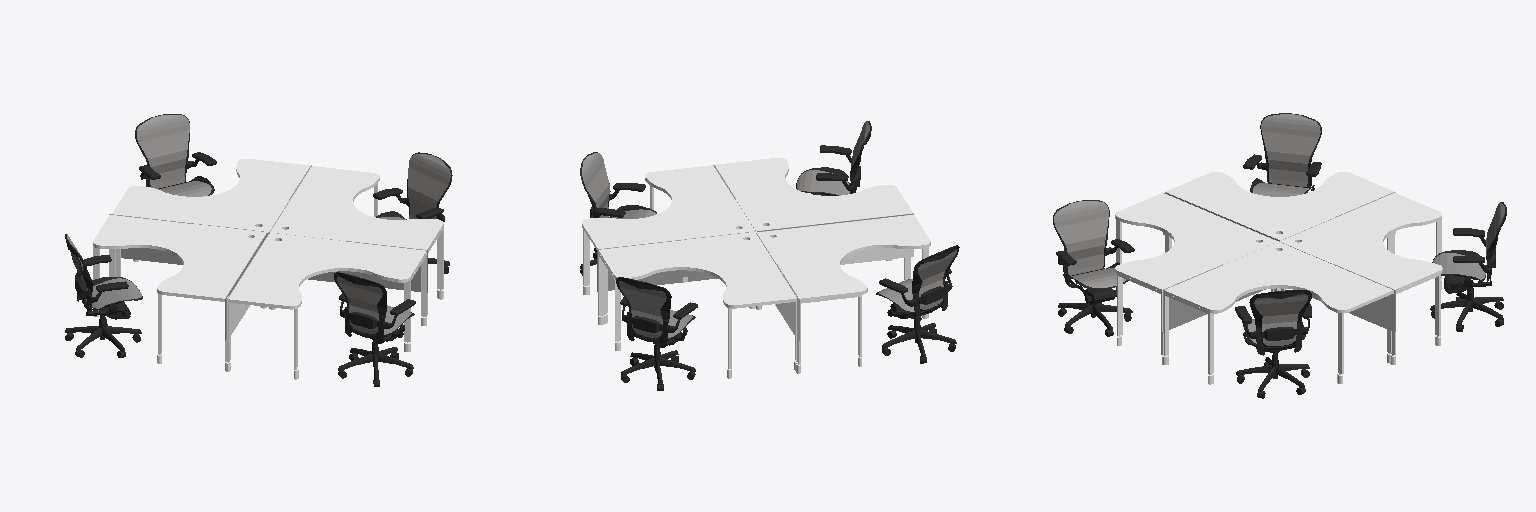
The model's file is WORKSTATIONS.obj.
3 views of the same model, side by side, from view 1: azimuth 30°, elevation 25°; view 2: azimuth 150°, elevation 25°; view 3: azimuth 270°, elevation 25° (orthographic).
Parts seen in each view (by area): view 1: Mesh1 Component_15_1 Component_17_1 Component_18_1 Model, Mesh55 Component_15_4 Component_17_4 Component_18_1 Model, Mesh37 Component_15_3 Component_17_3 Component_18_1 Model, Mesh19 Component_15_2 Component_17_2 Component_18_1 Model, Mesh99 Component_19_2 ske2D1 Model, Mesh84 Component_19_1 ske2D1 Model, Mesh207 Component_19_7 ske2D4 Model, Mesh222 Component_19_8 ske2D4 Model, Mesh166 Component_19_5 ske2D3 Model, Mesh181 Component_19_6 ske2D3 Model, Mesh60 screen_2_12 Screen2_1_8 Herman_miller_6_x8__Vivo_Workstat, Mesh6 screen_2_3 Screen2_1_2 Herman_miller_6_x8__Vivo_Workstatio (+1 smaller); view 2: Mesh19 Component_15_2 Component_17_2 Component_18_1 Model, Mesh55 Component_15_4 Component_17_4 Component_18_1 Model, Mesh37 Component_15_3 Component_17_3 Component_18_1 Model, Mesh1 Component_15_1 Component_17_1 Component_18_1 Model, Mesh84 Component_19_1 ske2D1 Model, Mesh99 Component_19_2 ske2D1 Model, Mesh140 Component_19_4 ske2D2 Model, Mesh125 Component_19_3 ske2D2 Model, Mesh56 screen_2_10 Screen2_1_7 Herman_miller_6_x8__Vivo_Workstat, Mesh207 Component_19_7 ske2D4 Model, Mesh222 Component_19_8 ske2D4 Model, Mesh24 screen_2_6 Screen2_1_4 Herman_miller_6_x8__Vivo_Workstati; view 3: Mesh37 Component_15_3 Component_17_3 Component_18_1 Model, Mesh1 Component_15_1 Component_17_1 Component_18_1 Model, Mesh19 Component_15_2 Component_17_2 Component_18_1 Model, Mesh55 Component_15_4 Component_17_4 Component_18_1 Model, Mesh140 Component_19_4 ske2D2 Model, Mesh125 Component_19_3 ske2D2 Model, Mesh181 Component_19_6 ske2D3 Model, Mesh166 Component_19_5 ske2D3 Model, Mesh222 Component_19_8 ske2D4 Model, Mesh207 Component_19_7 ske2D4 Model, Mesh38 screen_2_7 Screen2_1_5 Herman_miller_6_x8__Vivo_Workstati, Mesh42 screen_2_9 Screen2_1_6 Herman_miller_6_x8__Vivo_Workstati.
Part boxes in pixels (x1,y1,x2,y2): Mesh1 Component_15_1 Component_17_1 Component_18_1 Model: (228,233,426,309); Mesh55 Component_15_4 Component_17_4 Component_18_1 Model: (93,215,266,301); Mesh37 Component_15_3 Component_17_3 Component_18_1 Model: (271,166,443,249); Mesh19 Component_15_2 Component_17_2 Component_18_1 Model: (112,159,309,231); Mesh99 Component_19_2 ske2D1 Model: (158,114,189,186); Mesh84 Component_19_1 ske2D1 Model: (135,116,167,188); Mesh207 Component_19_7 ske2D4 Model: (407,152,436,218); Mesh222 Component_19_8 ske2D4 Model: (422,157,452,218); Mesh166 Component_19_5 ske2D3 Model: (355,276,386,339); Mesh181 Component_19_6 ske2D3 Model: (334,272,366,336); Mesh60 screen_2_12 Screen2_1_8 Herman_miller_6_x8__Vivo_Workstat: (109,214,189,264); Mesh6 screen_2_3 Screen2_1_2 Herman_miller_6_x8__Vivo_Workstatio: (344,241,427,292); Mesh19 Component_15_2 Component_17_2 Component_18_1 Model: (598,232,796,308); Mesh55 Component_15_4 Component_17_4 Component_18_1 Model: (757,215,930,300); Mesh37 Component_15_3 Component_17_3 Component_18_1 Model: (582,165,754,249); Mesh1 Component_15_1 Component_17_1 Component_18_1 Model: (715,158,913,230); Mesh84 Component_19_1 ske2D1 Model: (639,281,671,343); Mesh99 Component_19_2 ske2D1 Model: (616,277,648,341); Mesh140 Component_19_4 ske2D2 Model: (912,251,942,315); Mesh125 Component_19_3 ske2D2 Model: (928,245,959,312); Mesh56 screen_2_10 Screen2_1_7 Herman_miller_6_x8__Vivo_Workstat: (762,214,913,264); Mesh207 Component_19_7 ske2D4 Model: (580,158,602,217); Mesh222 Component_19_8 ske2D4 Model: (585,152,610,217); Mesh24 screen_2_6 Screen2_1_4 Herman_miller_6_x8__Vivo_Workstati: (597,240,680,291); Mesh37 Component_15_3 Component_17_3 Component_18_1 Model: (1164,242,1393,313); Mesh1 Component_15_1 Component_17_1 Component_18_1 Model: (1115,193,1276,291); Mesh19 Component_15_2 Component_17_2 Component_18_1 Model: (1281,193,1442,290); Mesh55 Component_15_4 Component_17_4 Component_18_1 Model: (1166,172,1393,240); Mesh140 Component_19_4 ske2D2 Model: (1288,114,1321,187); Mesh125 Component_19_3 ske2D2 Model: (1260,113,1292,185); Mesh181 Component_19_6 ske2D3 Model: (1077,200,1109,272); Mesh166 Component_19_5 ske2D3 Model: (1053,201,1085,275); Mesh222 Component_19_8 ske2D4 Model: (1249,291,1282,350); Mesh207 Component_19_7 ske2D4 Model: (1278,290,1311,350); Mesh38 screen_2_7 Screen2_1_5 Herman_miller_6_x8__Vivo_Workstati: (1281,242,1393,331); Mesh42 screen_2_9 Screen2_1_6 Herman_miller_6_x8__Vivo_Workstati: (1163,265,1222,332).
Bounding box in the file's own units: 139 × 39 × 149.